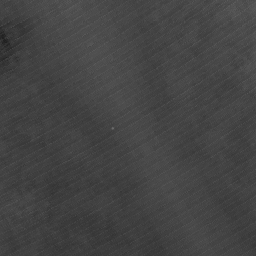Target: (109, 125, 116, 131)
